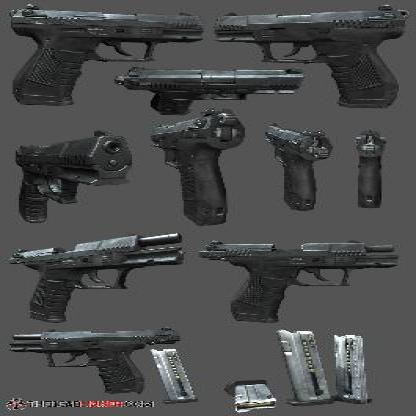pistol: (214, 5, 404, 109), (9, 4, 202, 104), (198, 240, 400, 322), (15, 233, 183, 321), (13, 326, 182, 392), (149, 108, 242, 226), (15, 128, 129, 224), (111, 66, 302, 114), (263, 120, 332, 209), (356, 129, 386, 207)
